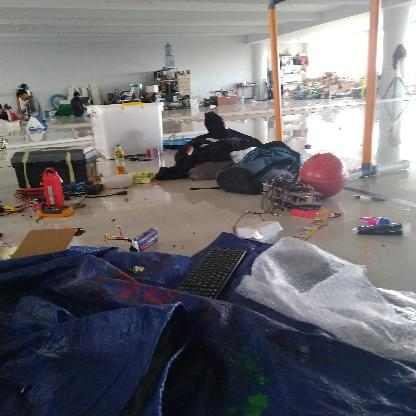red_buoy: (299, 150, 348, 202)
